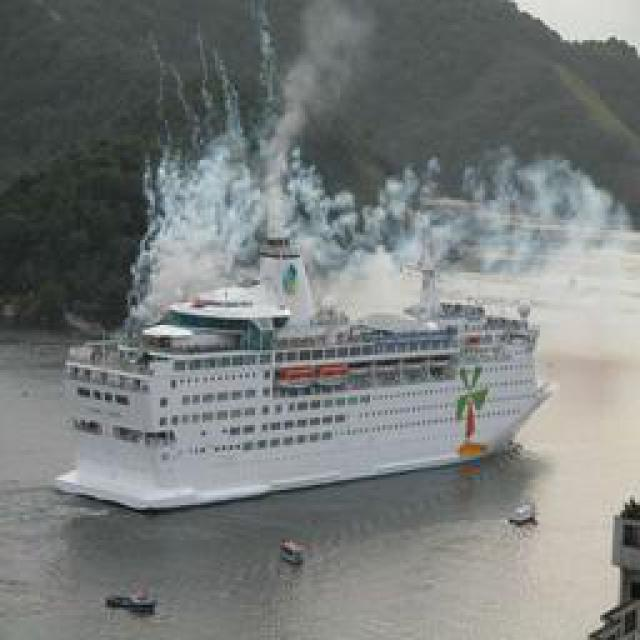Ship: (50, 301, 555, 514), (101, 578, 163, 623), (506, 498, 547, 535), (276, 537, 310, 572)
